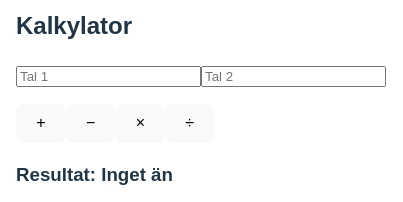
Calculator-komponent › adderar två tal korrekt
In the number field with placeholder "Tal 1": {"x": 108, "y": 76} [16, 66, 201, 86], type "5"
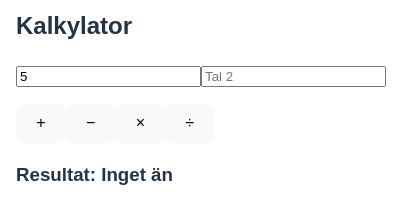
In the number field with placeholder "Tal 2": {"x": 294, "y": 76} [201, 66, 386, 86], type "3"
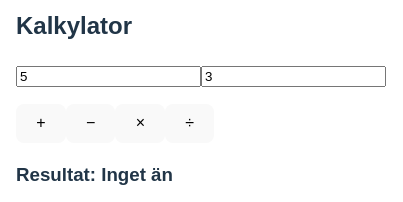
Click the button "+": {"x": 41, "y": 123} [16, 104, 66, 143]
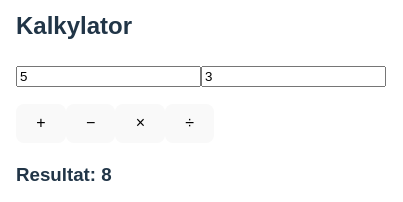
Result: the heading "Resultat: 8" is shown at [16, 164, 112, 186]
